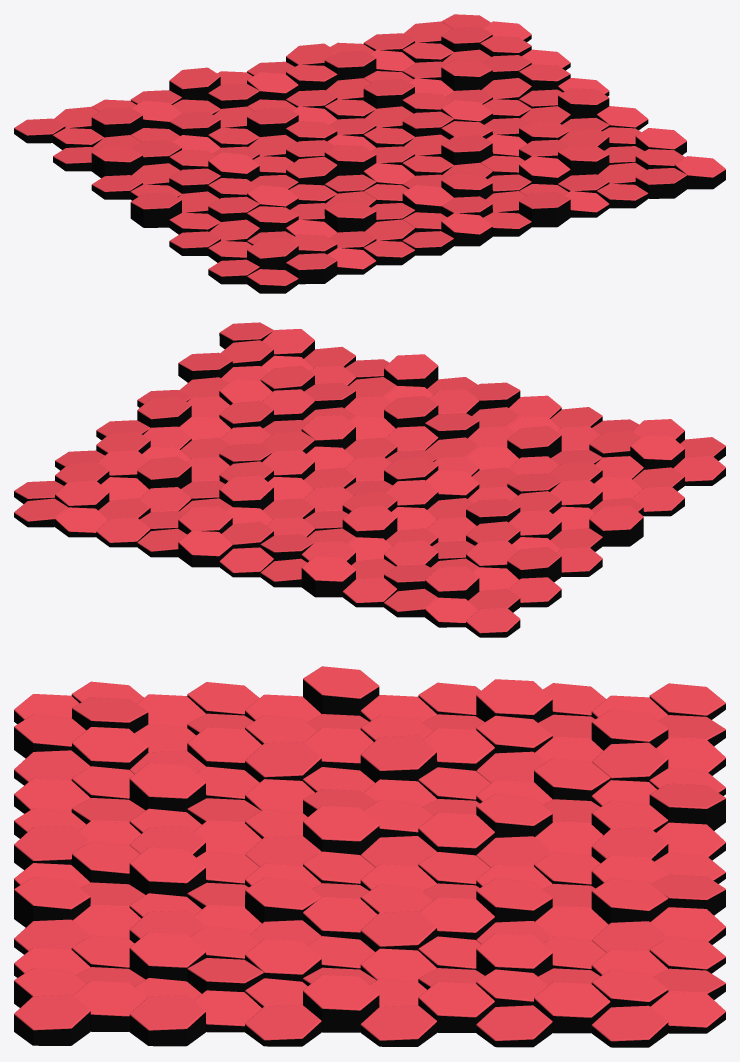
File: baseModelI.glb
3 views of the same model, one above another, from view 1: azimuth 30°, elevation 25°; view 2: azimuth 150°, elevation 25°; view 3: azimuth 270°, elevation 25° (orthographic). The views are drawn at different scales.
Parts seen in each view (by area): view 1: panel_gran_2.028, panel_gran_2.038, panel_gran_2.075, panel_gran_2.023, panel_gran_2.020, panel_gran_2.134, panel_gran_2.004, panel_gran_2.090, panel_gran_2.112, panel_gran_2.001, panel_gran_2, panel_gran_2.064 (+118 smaller); view 2: panel_gran_2.090, panel_gran_2.038, panel_gran_2.102, panel_gran_2.001, panel_gran_2.088, panel_gran_2.081, panel_gran_2.100, panel_gran_2.028, panel_gran_2.075, panel_gran_2.020, panel_gran_2.134, panel_gran_2.064 (+120 smaller); view 3: panel_gran_2.124, panel_gran_2.119, panel_gran_2, panel_gran_2.032, panel_gran_2.020, panel_gran_2.053, panel_gran_2.038, panel_gran_2.048, panel_gran_2.116, panel_gran_2.136, panel_gran_2.028, panel_gran_2.129 (+131 smaller).
Part boxes in pixels (<box>): panel_gran_2.028: <box>519,192,570,227</box>; panel_gran_2.038: <box>130,192,181,227</box>; panel_gran_2.075: <box>91,145,142,178</box>; panel_gran_2.023: <box>441,213,492,246</box>; panel_gran_2.020: <box>324,201,376,232</box>; panel_gran_2.134: <box>441,60,492,90</box>; panel_gran_2.004: <box>286,253,337,284</box>; panel_gran_2.090: <box>169,67,220,100</box>; panel_gran_2.112: <box>635,168,686,198</box>; panel_gran_2.001: <box>247,237,298,270</box>; panel_gran_2: <box>674,156,725,189</box>; panel_gran_2.064: <box>441,135,492,164</box>; panel_gran_2.090: <box>301,556,355,597</box>; panel_gran_2.038: <box>589,505,643,546</box>; panel_gran_2.102: <box>178,530,232,567</box>; panel_gran_2.001: <box>630,434,684,469</box>; panel_gran_2.088: <box>342,505,397,540</box>; panel_gran_2.081: <box>425,566,479,600</box>; panel_gran_2.100: <box>219,475,273,509</box>; panel_gran_2.028: <box>384,354,438,388</box>; panel_gran_2.075: <box>507,547,561,582</box>; panel_gran_2.020: <box>507,426,561,458</box>; panel_gran_2.134: <box>137,456,191,489</box>; panel_gran_2.064: <box>301,415,355,449</box>; panel_gran_2.124: <box>303,974,379,1032</box>; panel_gran_2.119: <box>129,995,205,1046</box>; panel_gran_2: <box>14,994,90,1045</box>; panel_gran_2.032: <box>129,847,205,896</box>; panel_gran_2.020: <box>129,762,205,812</box>; panel_gran_2.053: <box>303,805,379,855</box>; panel_gran_2.038: <box>303,666,379,715</box>; panel_gran_2.048: <box>360,735,436,782</box>; panel_gran_2.116: <box>129,932,205,981</box>; panel_gran_2.136: <box>534,982,610,1033</box>; panel_gran_2.028: <box>14,877,90,927</box>; panel_gran_2.129: <box>418,981,494,1032</box>.
Size of the model in its own units: 2.15 by 0.0912 by 1.84.
